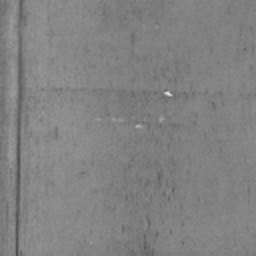Scratches: (12, 0, 22, 256)
